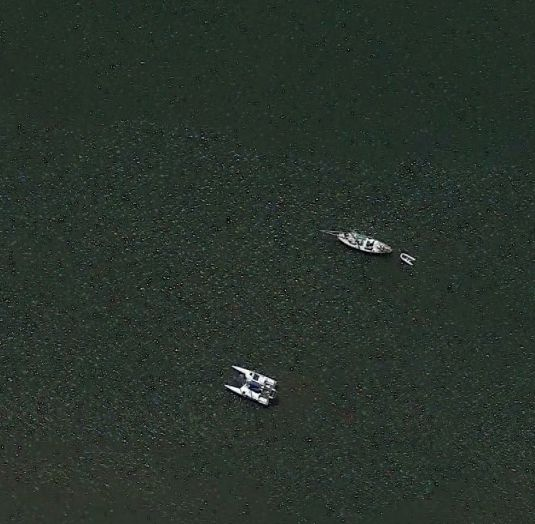boat: (223, 363, 280, 407), (332, 228, 396, 259)
